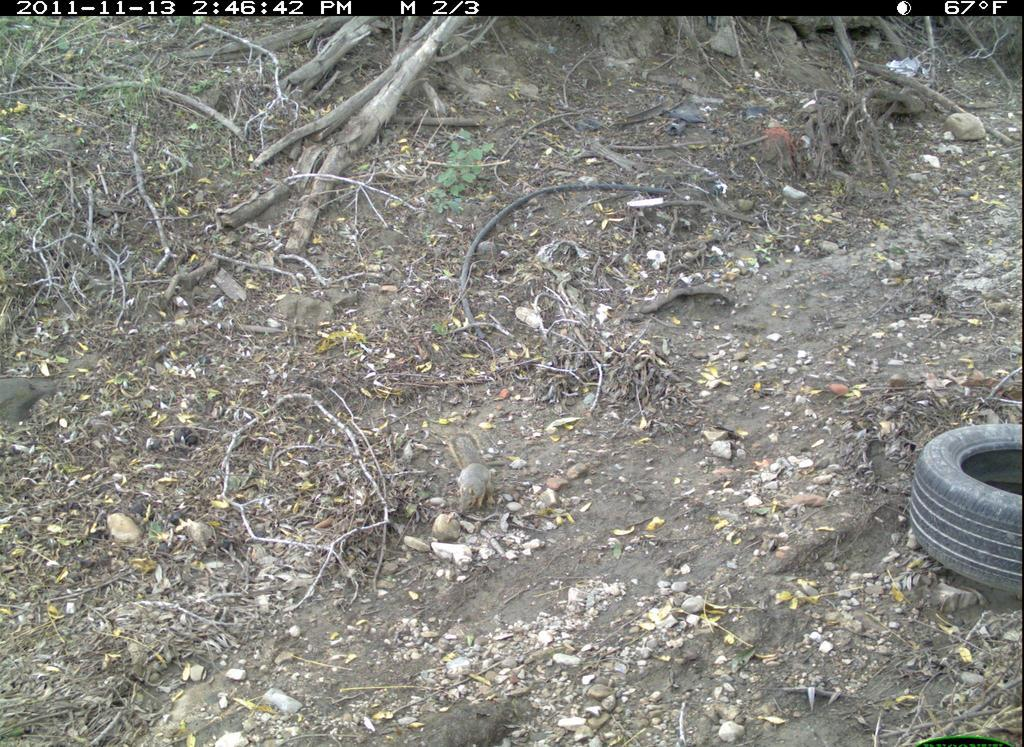squirrel: (443, 436, 497, 518)
